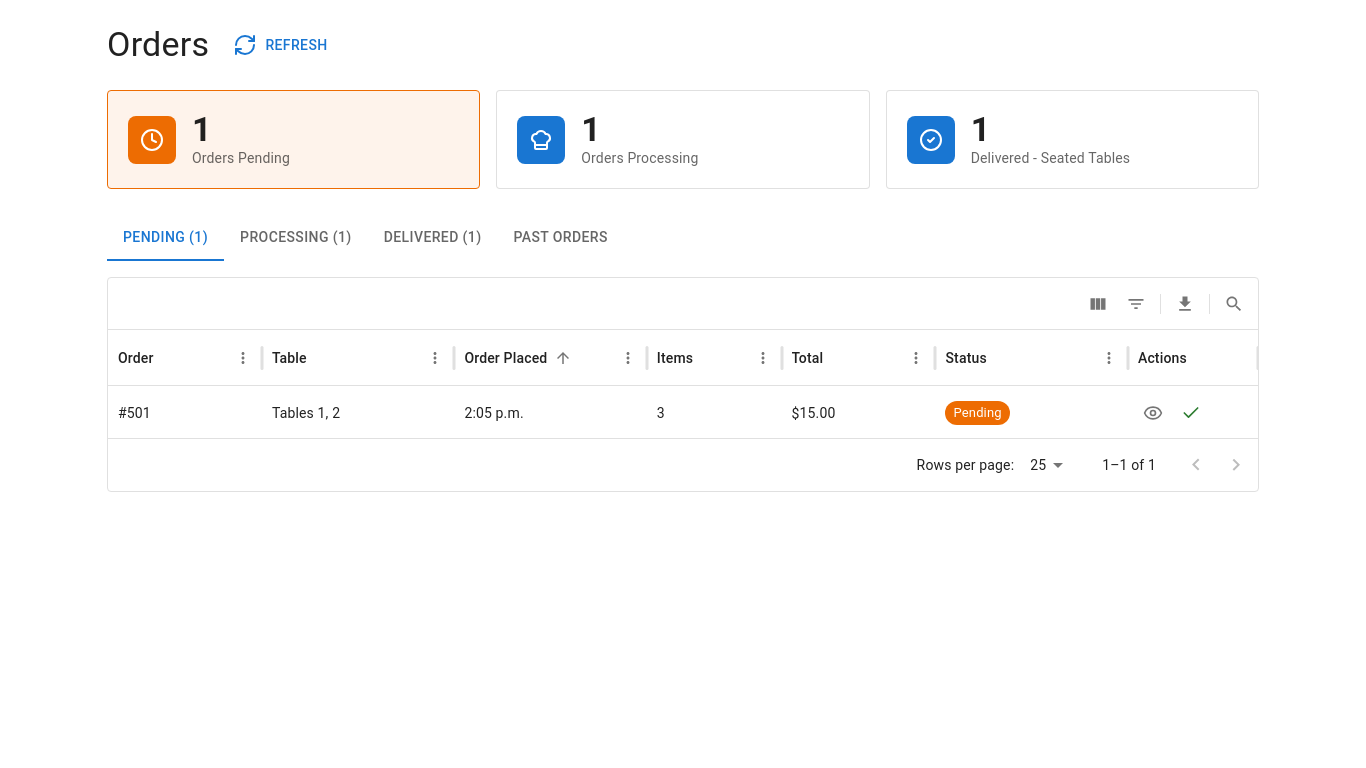
Test: Past orders › shows API validation errors under the matching field
This screenshot has width=1366, height=768.
Expected: the text "#501" is shown, [118, 405, 151, 421]
Click the tab "Past Orders" at coordinates (561, 237), box [498, 213, 624, 261]
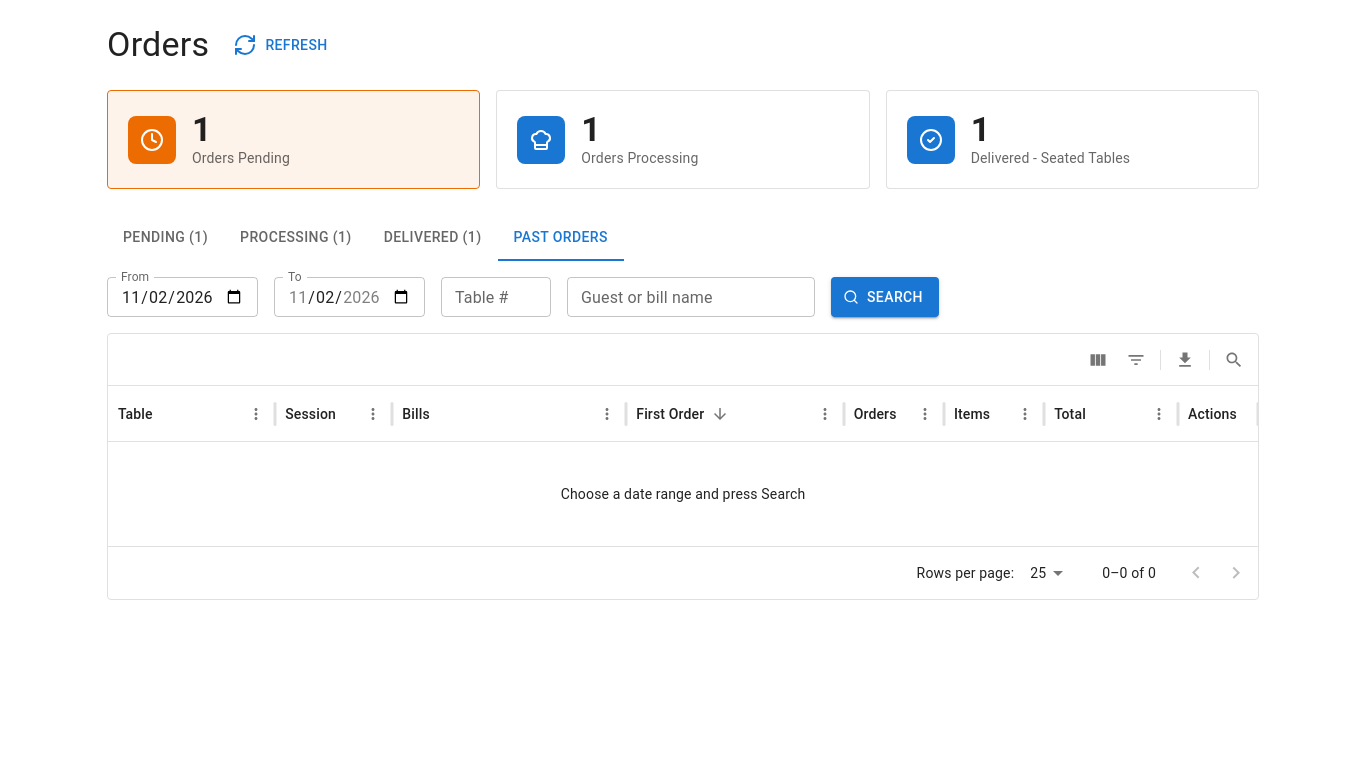
Click the button "Search" at coordinates (885, 297), box [831, 277, 939, 317]
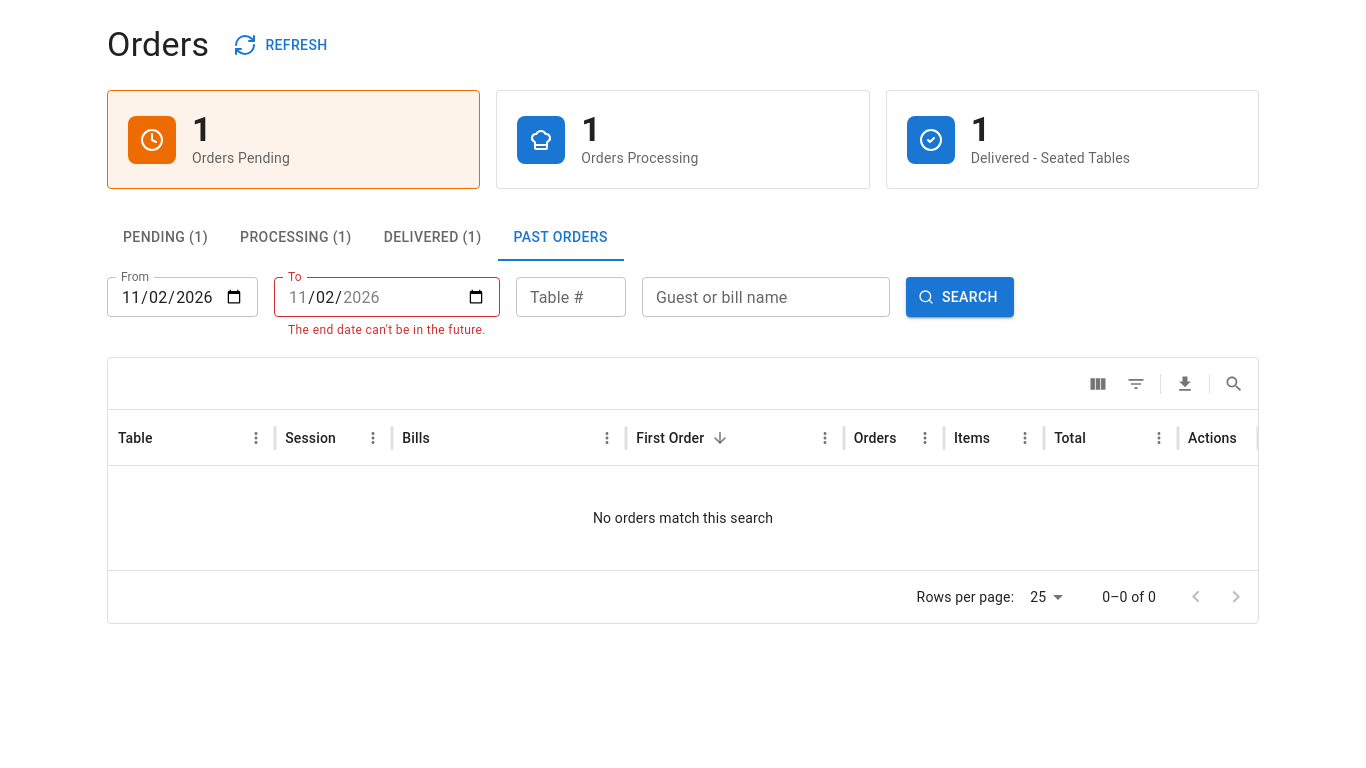
Expected: the text "The end date can't be in the future." is shown, [288, 321, 486, 341]
